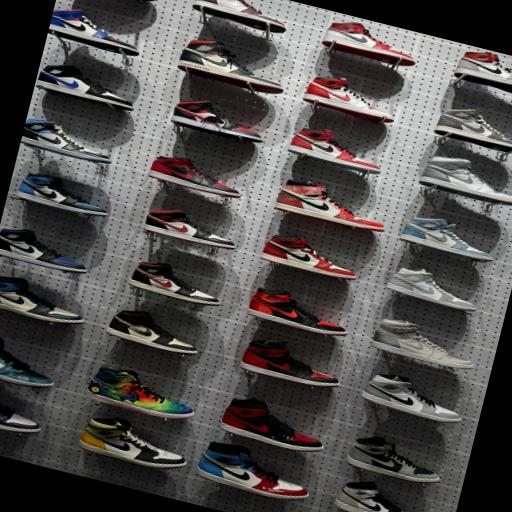shoe: (196, 442, 307, 499), (274, 180, 383, 232), (85, 367, 193, 418), (177, 41, 282, 93), (219, 399, 323, 451), (78, 418, 185, 468), (370, 319, 472, 369), (246, 288, 346, 336), (360, 375, 460, 422), (239, 340, 338, 387), (418, 156, 511, 205), (36, 65, 132, 110), (346, 437, 439, 483), (287, 128, 379, 174), (260, 235, 355, 279), (302, 77, 392, 123), (322, 22, 414, 66), (399, 217, 491, 261), (21, 119, 110, 164), (49, 10, 138, 55), (106, 310, 196, 354), (0, 276, 82, 324), (128, 262, 219, 305), (170, 101, 262, 143), (16, 174, 107, 216), (385, 269, 475, 311), (148, 157, 239, 198), (143, 209, 235, 249), (0, 229, 85, 272), (434, 109, 511, 151), (192, 0, 285, 32), (0, 338, 52, 387), (453, 51, 511, 92), (334, 481, 401, 511), (0, 404, 39, 432), (141, 0, 154, 1)
